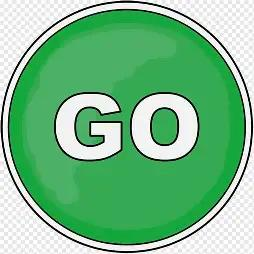Go: (8, 9, 243, 244)
